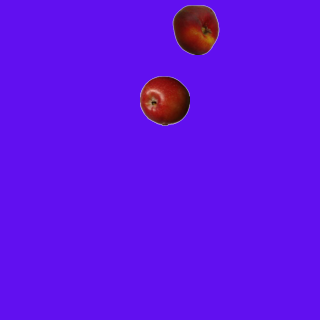Apple Braeburn: (139, 75, 189, 125)
Nectarine Flat: (170, 4, 220, 54)
